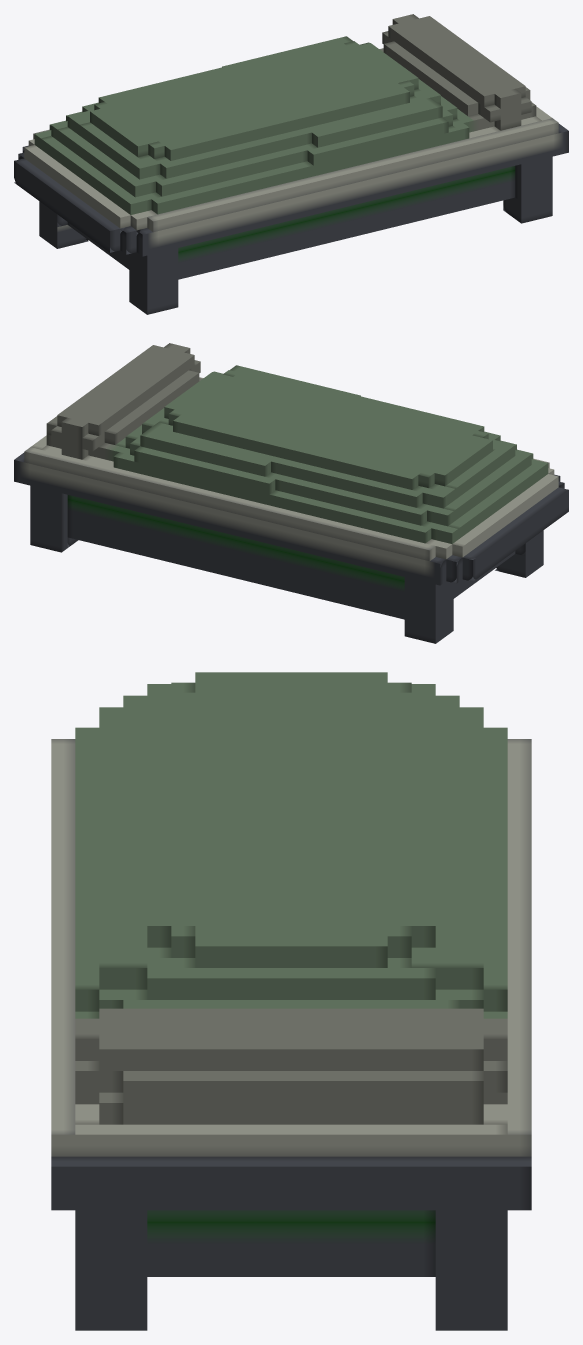
The model's file is bed_zw.dae.
3 views of the same model, one above another, from view 1: azimuth 30°, elevation 25°; view 2: azimuth 150°, elevation 25°; view 3: azimuth 270°, elevation 25° (orthographic). The views are drawn at different scales.
Visible parts, largest first — view 1: Content; view 2: Content; view 3: Content.
Boxes of the visible parts, x1,y1,x2,y2 form: Content: [14, 14, 568, 314]; Content: [14, 343, 568, 643]; Content: [51, 672, 531, 1330].
Size of the model in its own units: 43 by 13 by 20.
Materials: 1 (1 with a texture image).
